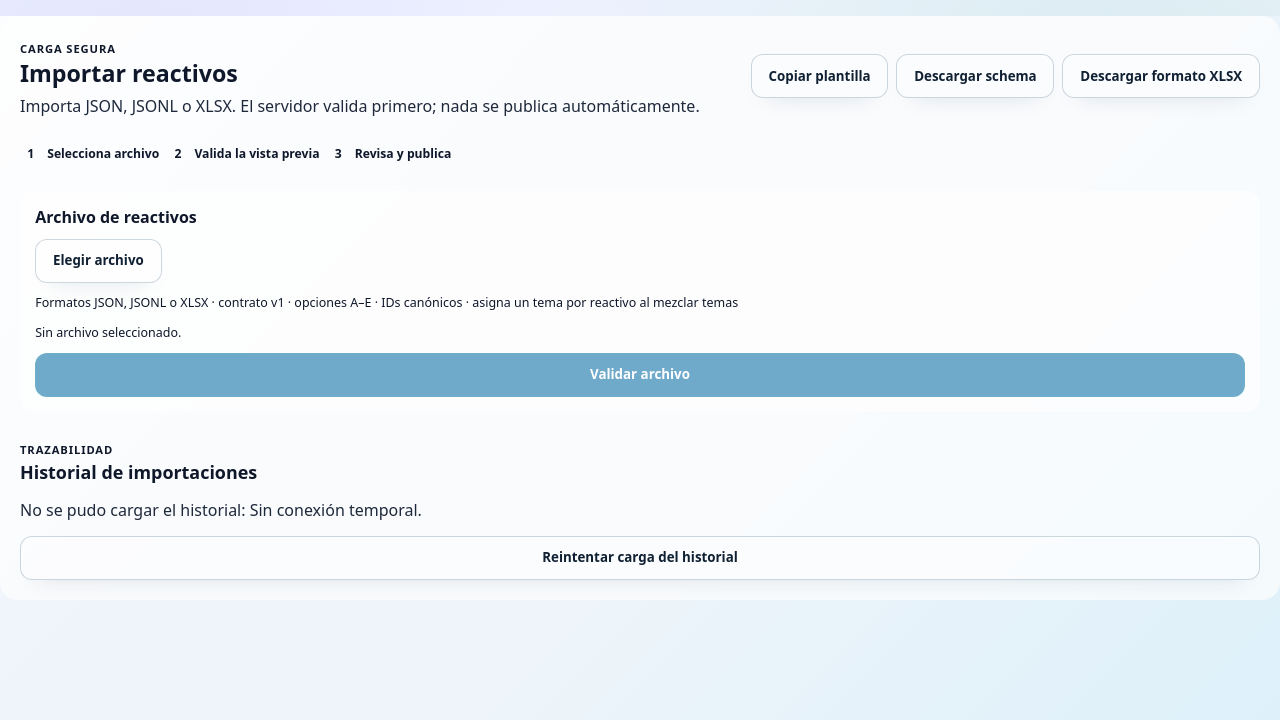
Test: BancoImportacionReactivos › distingue un fallo del historial de una materia vacía y permite reintentar
This screenshot has width=1280, height=720.
Expected: the message "No se pudo cargar el historial: Sin conexión temporal." is shown, [20,499,422,521]
Step 1. Click the button "Reintentar carga del historial" → (640, 558), box [20,536,1260,580]
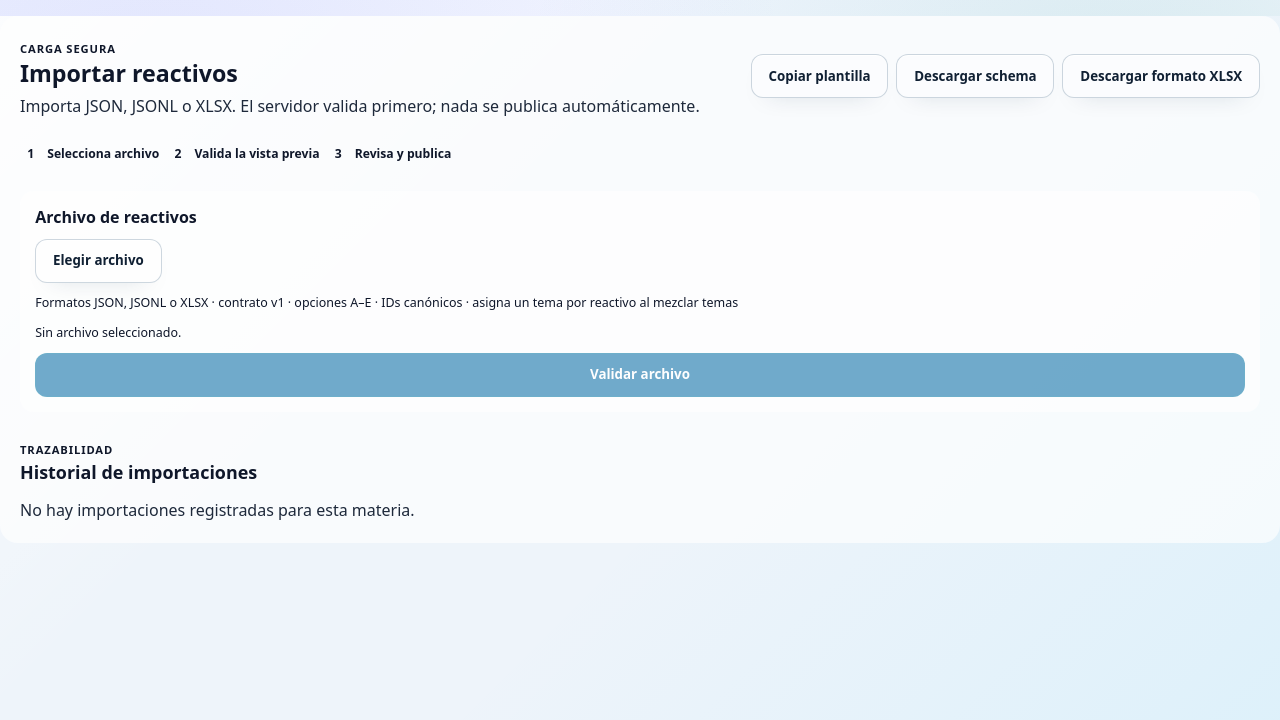
Expected: the message "No se pudo cargar el historial: Sin conexión temporal." is gone
Expected: the text "No hay importaciones registradas para esta materia." is shown, [20,499,415,521]
